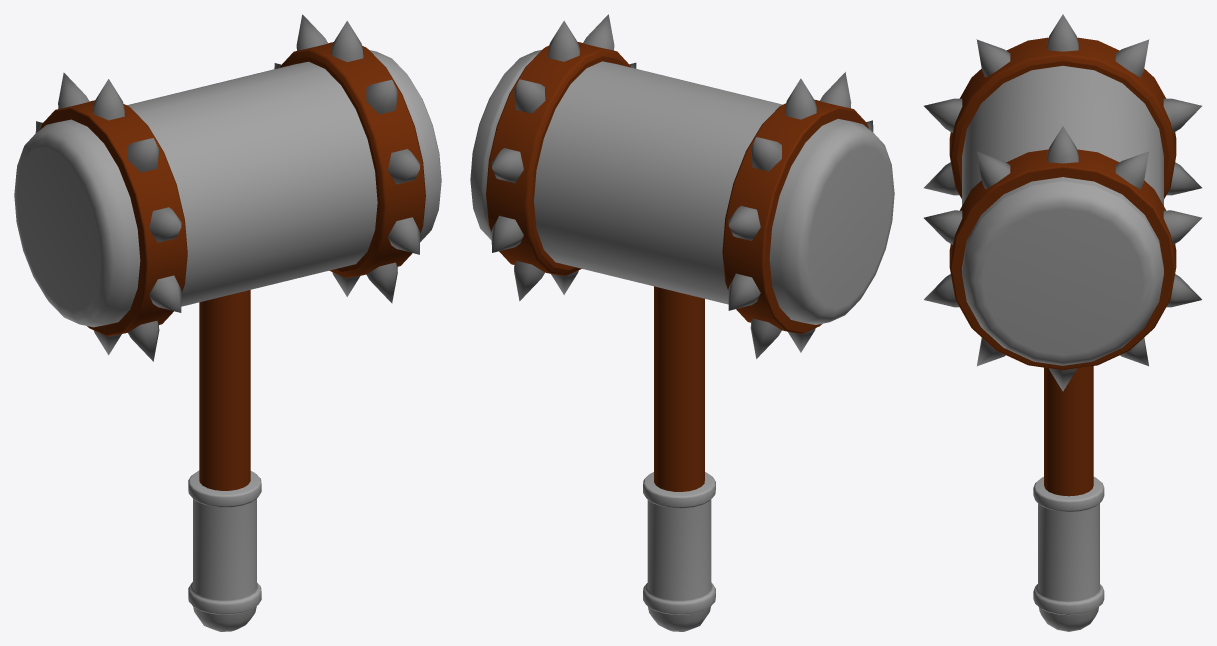
Rendered from Hammer - 1.fbx.
The picture shows the model from 3 angles, left to right: view 1: azimuth 30°, elevation 25°; view 2: azimuth 150°, elevation 25°; view 3: azimuth 270°, elevation 25°; orthographic projection. The views are drawn at different scales.
Parts seen in each view (by area): view 1: Bua1_Color, White; view 2: Bua1_Color, White; view 3: Bua1_Color, White.
Part boxes in pixels (x1,y1,x2,y2): Bua1_Color: [14, 50, 441, 631]; White: [35, 14, 425, 490]; Bua1_Color: [470, 50, 894, 631]; White: [486, 14, 873, 491]; Bua1_Color: [962, 66, 1163, 631]; White: [924, 14, 1201, 496].
Bounding box in the file's own units: 3267 × 5371 × 2432.
Materials: 2 (1 with a texture image).
